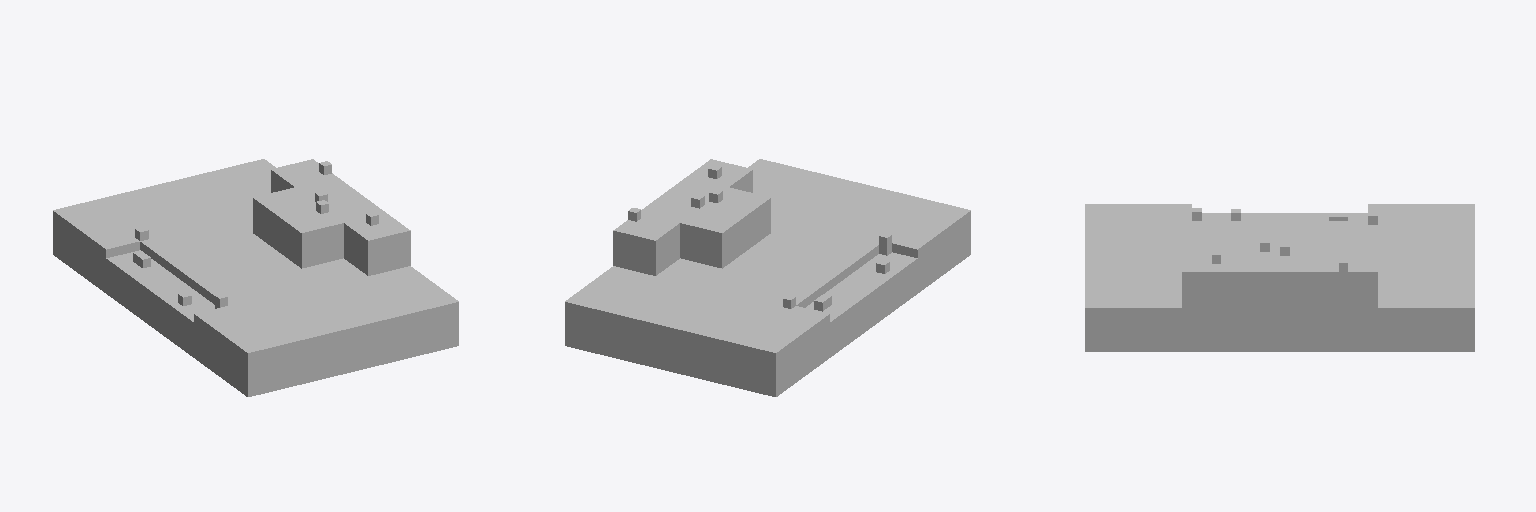
Rendered from Ground.obj.
3 renders of one model, left to right at view 1: azimuth 30°, elevation 25°; view 2: azimuth 150°, elevation 25°; view 3: azimuth 270°, elevation 25°, orthographic.
Parts seen in each view (by area): view 1: Ground; view 2: Ground; view 3: Ground.
Part boxes in pixels (left/top/right/bottom): Ground: left=53, top=159, right=458, bottom=396; Ground: left=565, top=159, right=970, bottom=396; Ground: left=1085, top=204, right=1474, bottom=351.
Bounding box in the file's own units: 25 × 10 × 40.